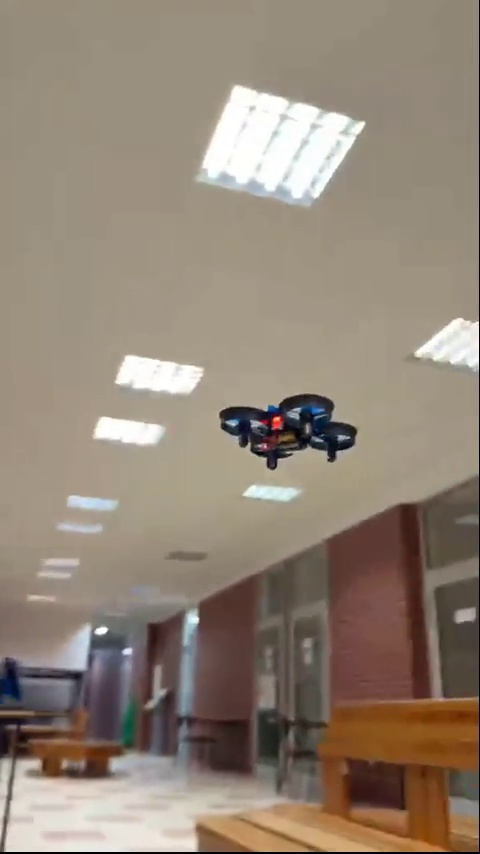drone: (205, 393, 366, 472)
